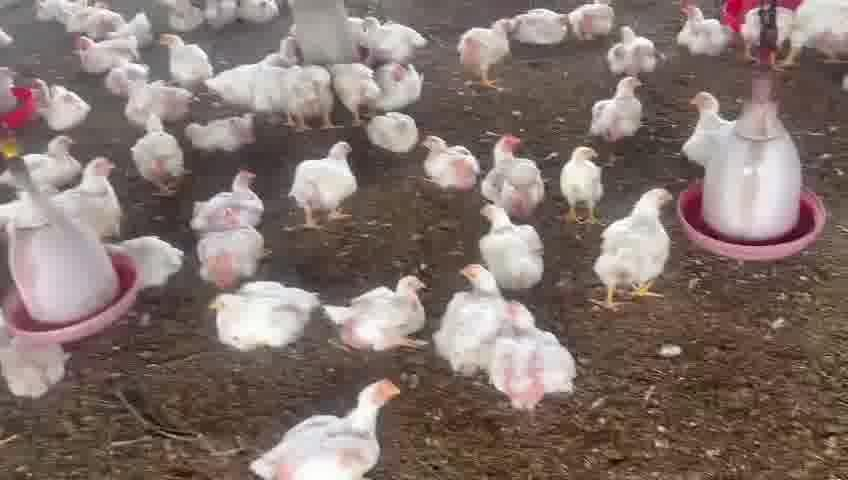AbNormal: (182, 108, 262, 158)
Normal: (255, 376, 402, 480), (485, 301, 580, 430), (427, 260, 507, 386), (596, 175, 670, 311), (315, 269, 432, 354), (211, 276, 316, 356), (476, 201, 551, 291), (290, 135, 361, 226), (481, 120, 545, 214), (191, 210, 268, 284), (54, 153, 123, 231), (460, 15, 521, 100), (558, 145, 614, 226), (197, 169, 267, 233), (131, 116, 188, 190), (282, 61, 332, 144), (591, 76, 650, 146), (155, 26, 220, 88), (603, 19, 662, 87), (415, 139, 476, 201), (329, 55, 384, 118), (28, 75, 91, 129), (364, 111, 428, 164), (681, 0, 733, 65)
